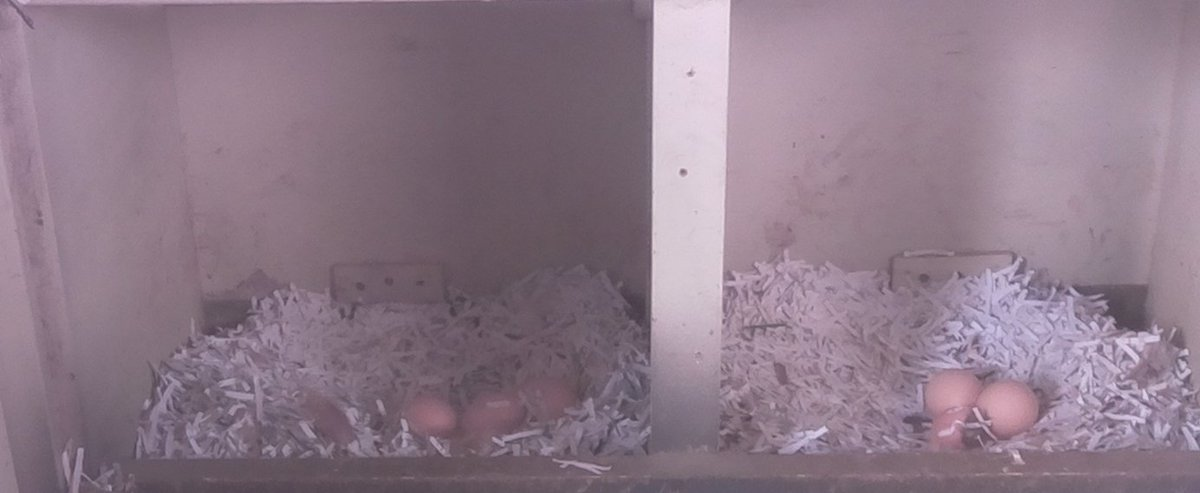egg: (972, 376, 1044, 441), (456, 388, 530, 450), (922, 365, 982, 418), (518, 374, 585, 419), (395, 395, 463, 439), (930, 403, 980, 455)
